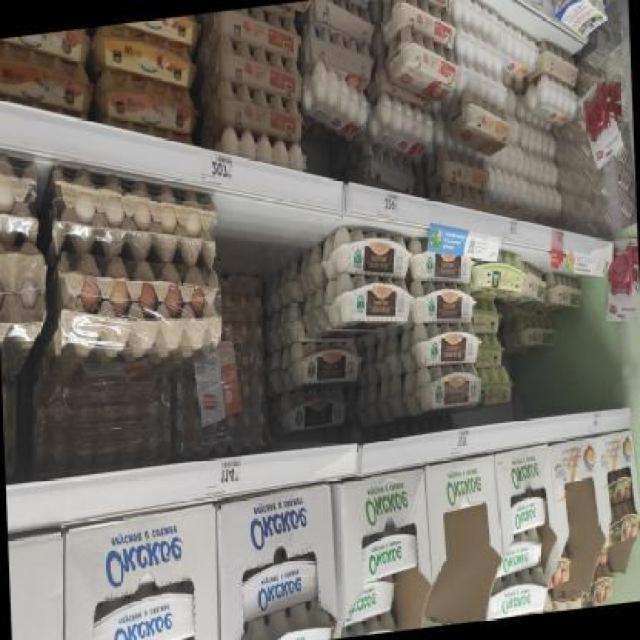Egg: (325, 269, 414, 340), (87, 584, 199, 640), (324, 219, 412, 287), (240, 556, 321, 622), (281, 334, 363, 395), (402, 361, 484, 419), (401, 318, 482, 376), (267, 388, 351, 442), (408, 233, 476, 289), (409, 275, 478, 328), (482, 569, 549, 620), (360, 528, 418, 584), (494, 539, 544, 580), (509, 492, 546, 536)
